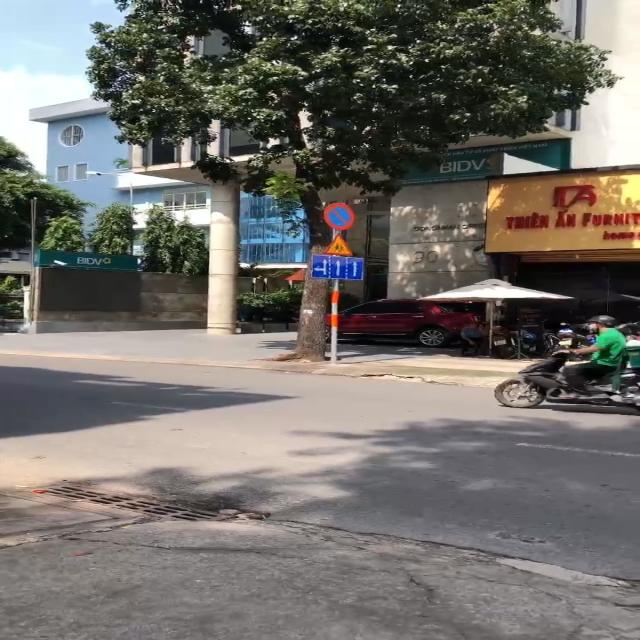Bien bao tre em: (319, 233, 359, 255)
